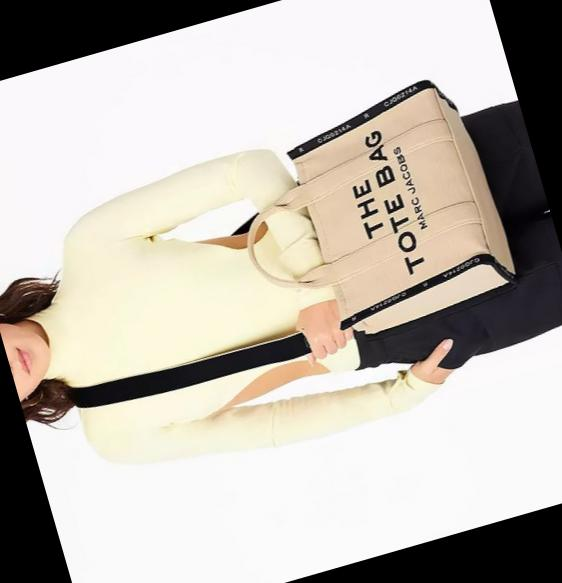MARC-JACOBS: (391, 144, 427, 230)
